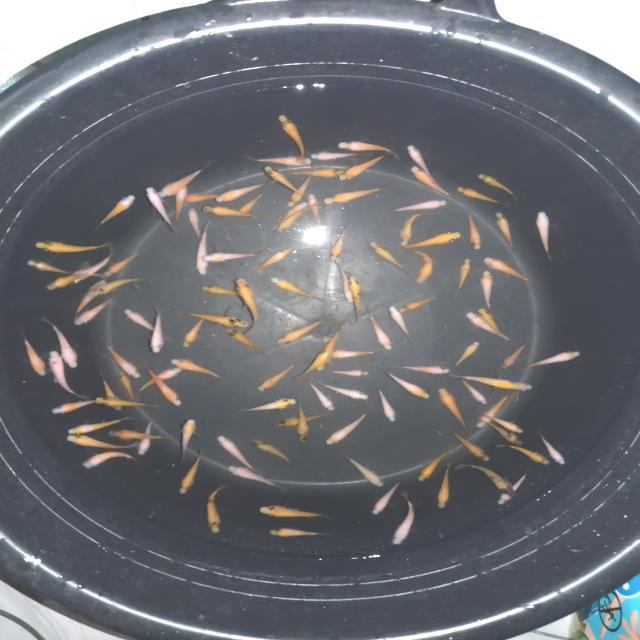nila: (449, 462, 516, 500), (36, 318, 80, 368), (154, 162, 210, 201), (140, 360, 182, 410), (322, 406, 370, 448), (273, 316, 340, 346), (46, 350, 87, 398), (220, 466, 286, 495), (259, 164, 308, 203), (462, 308, 515, 344), (168, 308, 254, 330), (60, 432, 142, 455), (232, 276, 262, 338), (366, 238, 412, 278), (98, 337, 142, 378), (214, 432, 258, 473), (336, 152, 396, 182), (268, 276, 326, 307), (322, 182, 396, 206), (337, 452, 385, 489), (377, 368, 430, 401), (492, 440, 550, 470), (274, 110, 308, 161), (435, 384, 469, 435), (67, 279, 109, 320), (67, 296, 116, 331), (92, 192, 137, 230), (163, 358, 234, 382), (272, 202, 322, 236), (64, 252, 114, 286), (442, 430, 492, 464), (315, 326, 350, 374), (484, 257, 538, 288), (472, 416, 524, 448), (453, 184, 510, 213), (144, 185, 179, 232), (518, 348, 586, 372), (378, 195, 452, 217), (15, 330, 47, 380), (414, 445, 454, 485), (268, 198, 314, 232), (68, 413, 136, 436), (244, 436, 296, 466), (254, 502, 332, 522), (474, 388, 512, 429), (290, 349, 337, 382), (220, 327, 270, 358), (78, 450, 144, 473), (175, 452, 208, 498), (452, 368, 518, 391), (198, 248, 270, 269), (534, 428, 570, 470), (132, 365, 184, 394), (397, 230, 464, 252), (247, 246, 296, 276), (204, 484, 232, 536), (390, 494, 418, 546), (494, 336, 532, 374), (370, 477, 406, 517), (234, 394, 298, 416), (472, 172, 518, 202), (119, 309, 168, 337), (215, 178, 272, 202), (272, 407, 334, 429), (36, 272, 104, 292), (408, 166, 451, 197), (489, 209, 518, 254), (496, 468, 530, 506), (100, 250, 146, 278), (48, 394, 104, 417), (366, 310, 395, 354), (27, 240, 112, 255), (189, 221, 212, 276), (301, 378, 337, 413), (534, 208, 557, 262), (395, 210, 426, 250), (255, 364, 299, 392), (330, 259, 355, 308), (334, 140, 398, 159), (382, 305, 414, 343), (286, 170, 317, 208), (196, 284, 254, 304), (402, 142, 434, 178), (175, 416, 199, 464), (479, 305, 507, 346), (318, 380, 370, 402), (434, 462, 456, 514), (98, 428, 169, 444), (481, 409, 526, 434), (94, 278, 158, 295), (133, 418, 159, 459), (168, 182, 190, 230), (198, 203, 256, 221), (94, 373, 120, 413), (462, 206, 484, 252), (242, 154, 314, 168), (180, 315, 208, 351), (22, 258, 76, 276), (326, 222, 349, 264), (410, 249, 434, 289), (94, 396, 165, 409), (236, 190, 270, 217), (346, 274, 364, 324), (148, 307, 166, 357), (292, 401, 312, 445), (486, 374, 534, 392), (398, 294, 441, 314), (116, 371, 142, 404), (280, 168, 350, 180), (478, 268, 496, 314), (266, 526, 333, 538), (399, 360, 452, 375), (308, 150, 373, 162), (321, 350, 380, 363), (377, 388, 398, 424), (177, 190, 225, 205), (454, 255, 472, 294), (461, 376, 484, 406), (452, 344, 478, 369), (306, 193, 324, 228), (186, 208, 204, 242), (326, 368, 372, 378)
